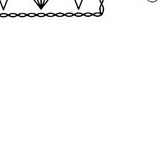chain: (146, 0, 157, 5)
double treble: (24, 0, 107, 31)
